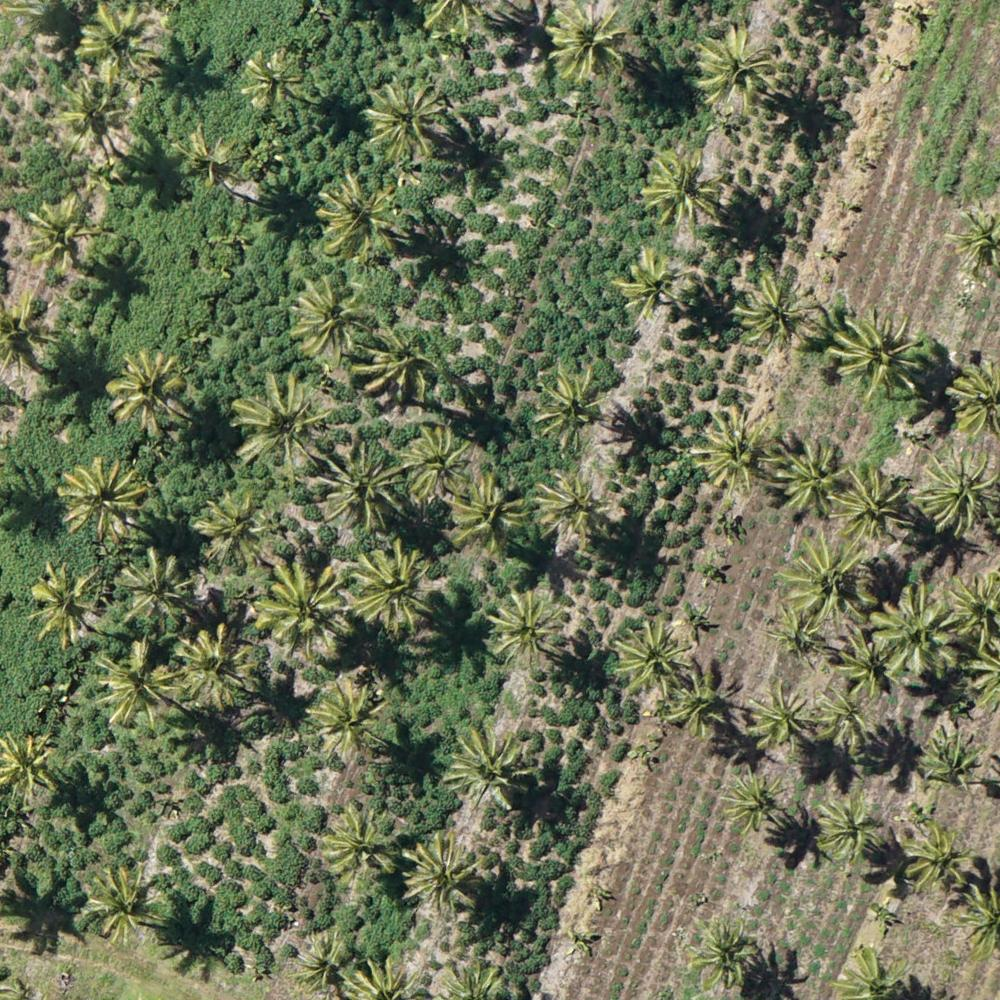Palm: (231, 371, 330, 475), (778, 532, 879, 629), (871, 585, 965, 678), (830, 313, 924, 400), (317, 446, 409, 533), (692, 24, 778, 116), (403, 831, 486, 926), (361, 76, 449, 165), (74, 1, 171, 81), (53, 75, 139, 165), (915, 448, 999, 539), (261, 565, 348, 651), (93, 641, 179, 727), (61, 458, 146, 545), (445, 727, 529, 814), (543, 2, 631, 85), (106, 349, 192, 433), (305, 676, 384, 767), (695, 407, 774, 496), (21, 198, 111, 275), (767, 433, 848, 518), (352, 543, 430, 631), (443, 475, 524, 559), (172, 627, 257, 707), (291, 276, 369, 362), (353, 329, 440, 405), (487, 588, 569, 667), (316, 176, 395, 258), (612, 621, 696, 698), (319, 806, 399, 886), (29, 561, 103, 646), (534, 369, 612, 449), (535, 468, 613, 547), (84, 866, 164, 943), (831, 466, 911, 543), (115, 548, 190, 627), (687, 914, 764, 990), (643, 150, 719, 226), (399, 424, 473, 501), (195, 490, 267, 566), (614, 248, 688, 321), (732, 275, 807, 347), (745, 680, 814, 756), (834, 623, 898, 701), (286, 932, 359, 999), (903, 824, 971, 893), (1, 729, 59, 808), (816, 791, 881, 861), (814, 684, 878, 755), (941, 358, 1000, 433), (671, 667, 737, 733), (720, 767, 784, 834), (182, 125, 247, 190), (766, 602, 829, 665), (238, 52, 302, 113), (922, 727, 985, 786)
